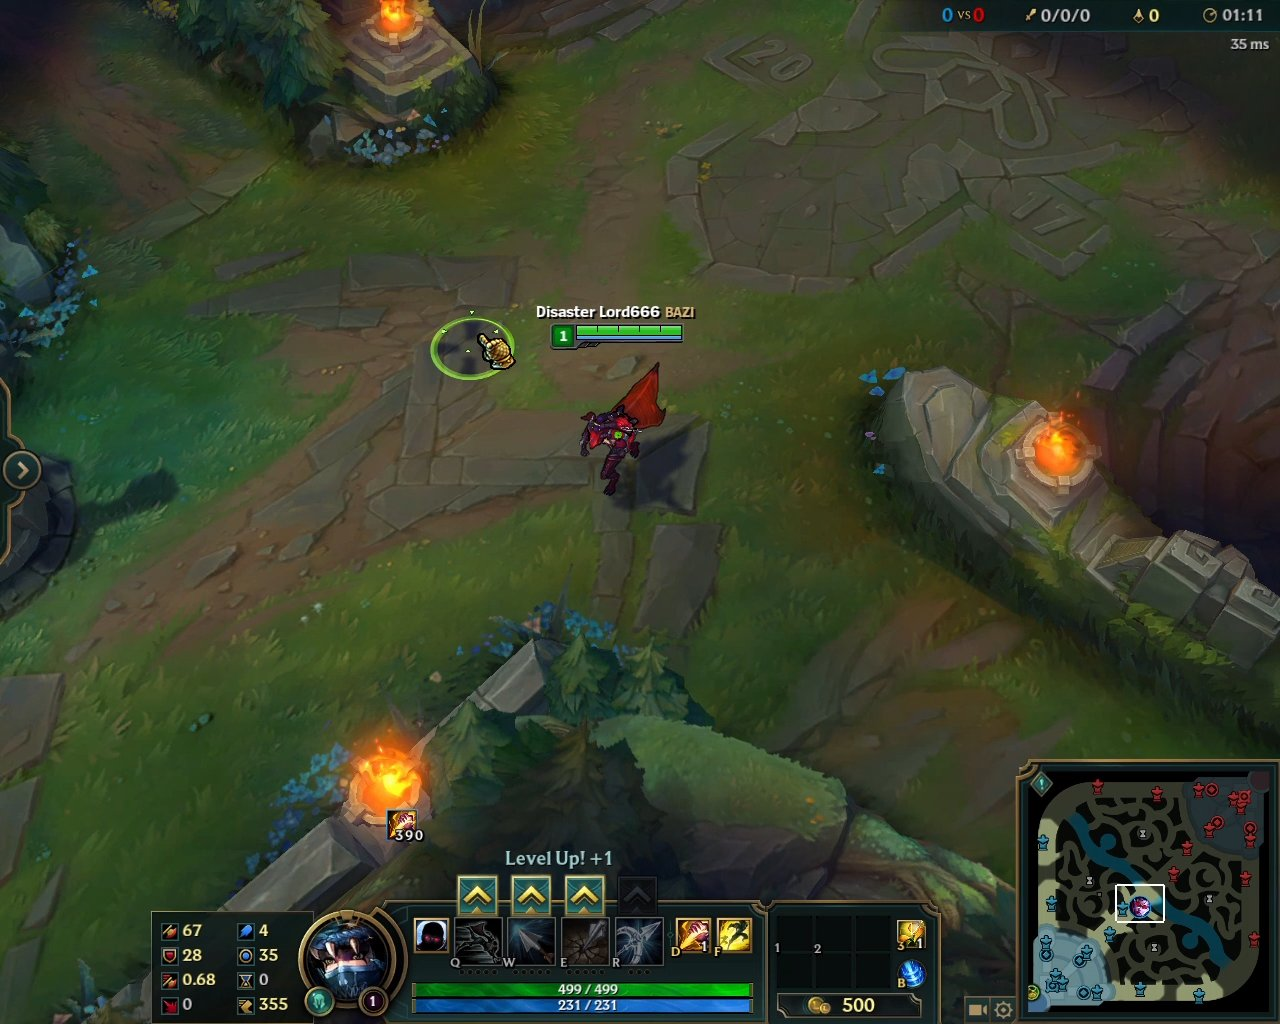Vayne: (571, 354, 674, 503)
